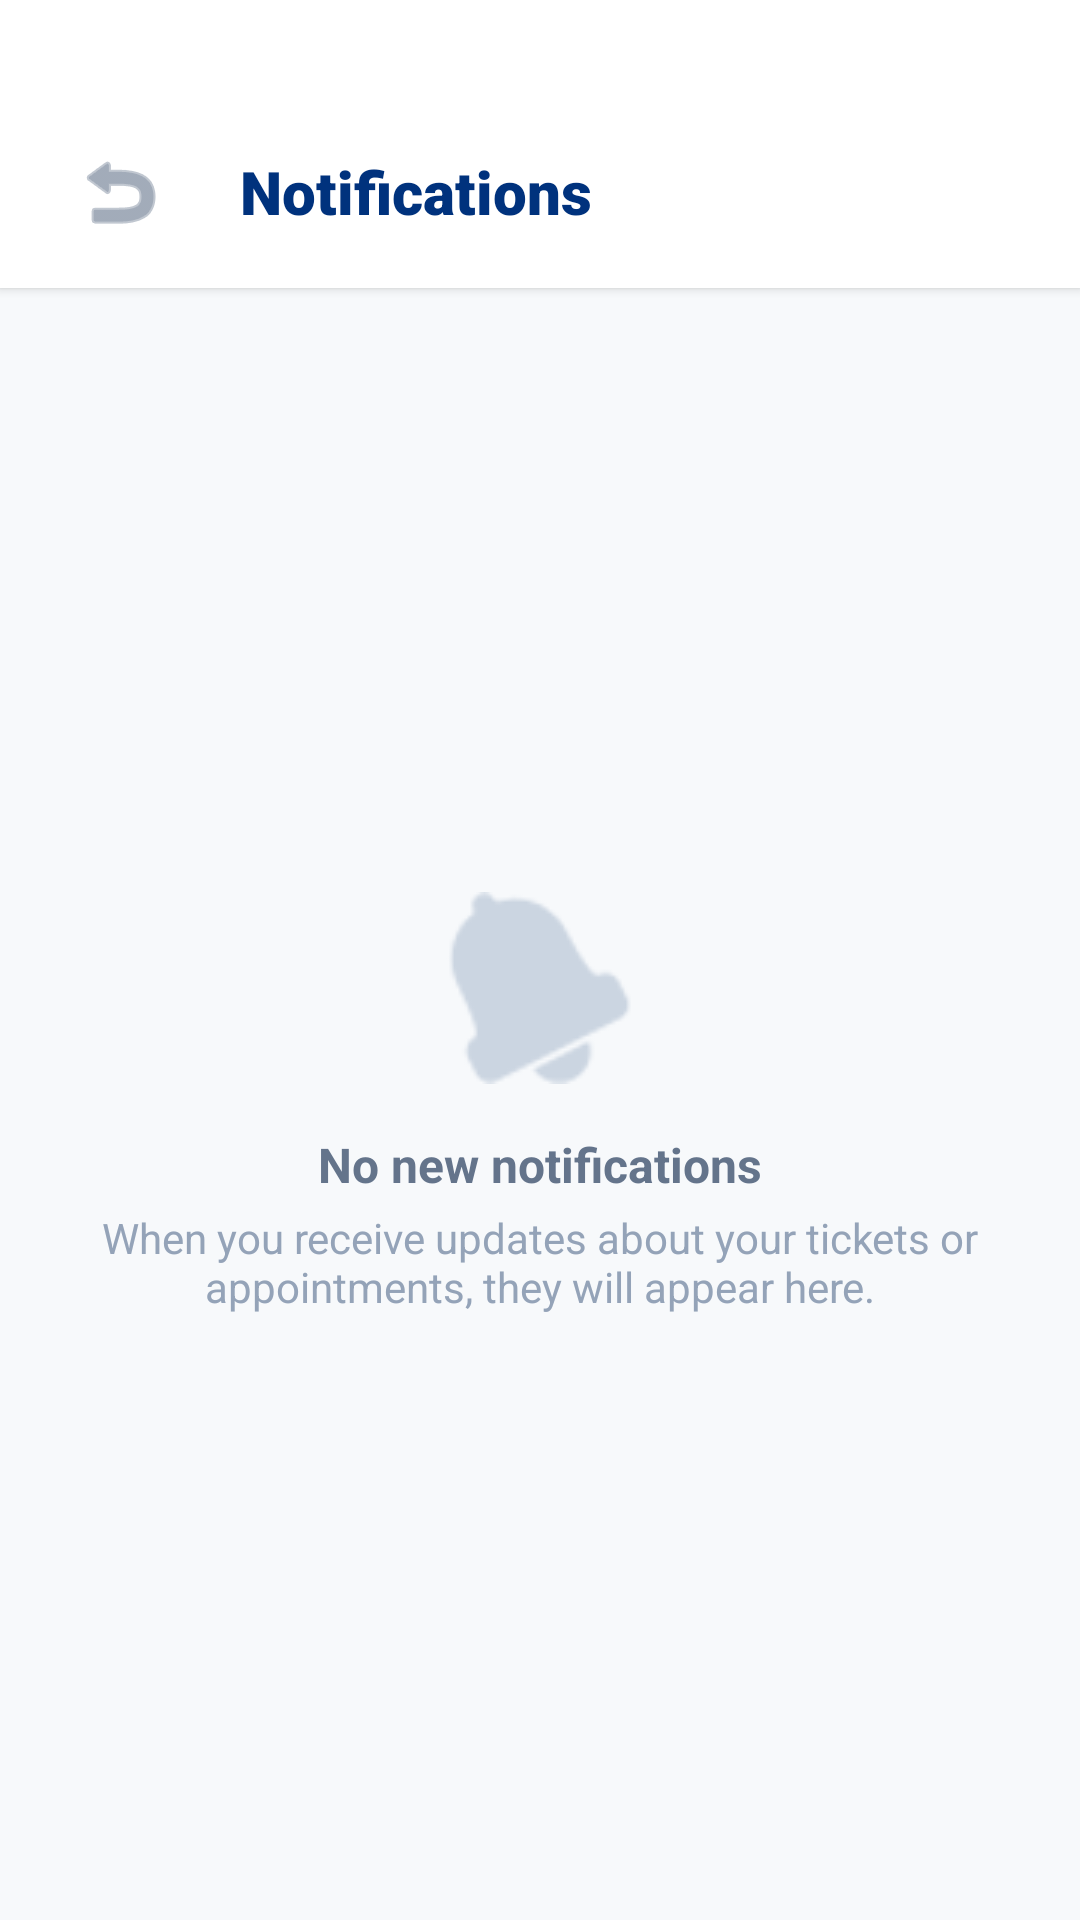

Where to tap for icons on this 1080px x 1920px app screen, as [x,y]:
popup reminder: [540,988]
revert: [121,193]
